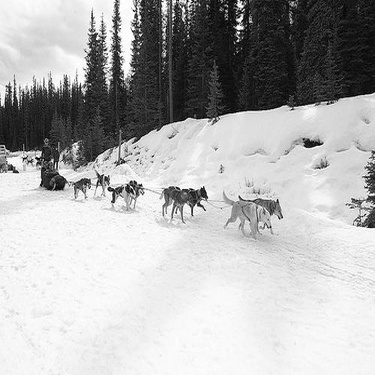dog: (216, 197, 276, 246), (161, 181, 210, 215), (158, 183, 194, 228), (236, 192, 286, 221), (105, 181, 146, 208), (99, 184, 136, 212), (65, 177, 92, 204), (93, 169, 112, 194), (24, 155, 35, 167), (20, 153, 29, 162)
